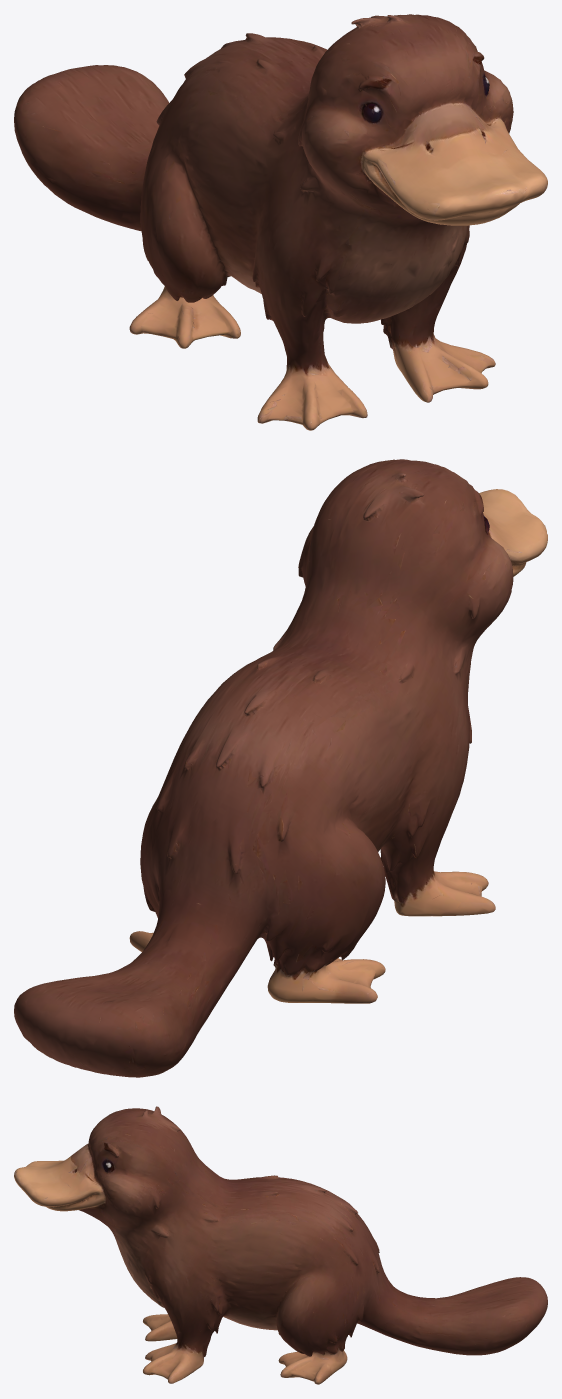
Rendered from mascot-ollie.glb.
3 renders of one model, top to bottom at view 1: azimuth 30°, elevation 25°; view 2: azimuth 150°, elevation 25°; view 3: azimuth 270°, elevation 25°, orthographic. The views are drawn at different scales.
Visible parts, largest first — view 1: Mesh_0; view 2: Mesh_0; view 3: Mesh_0.
Boxes of the visible parts, x1,y1,x2,y2 form: Mesh_0: [14, 14, 547, 430]; Mesh_0: [14, 459, 547, 1077]; Mesh_0: [14, 1106, 547, 1384].
Size of the model in its own units: 0.6068 by 0.9311 by 1.9.
1 material, 1 textured.
